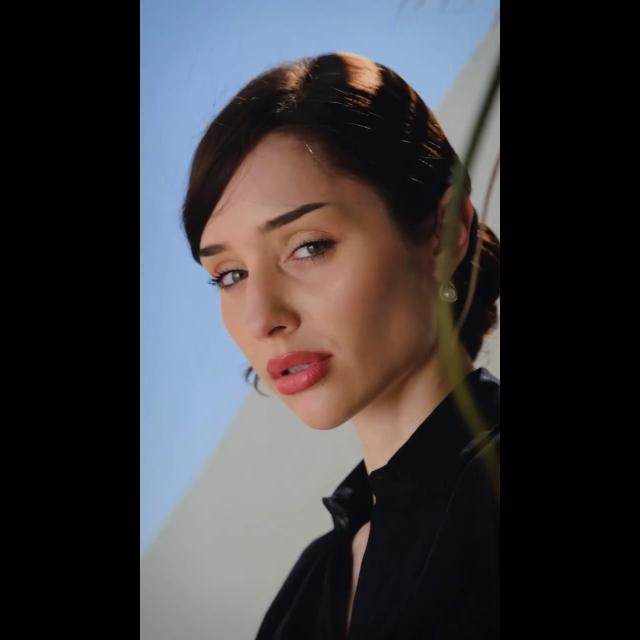ear ring: (434, 279, 468, 309)
